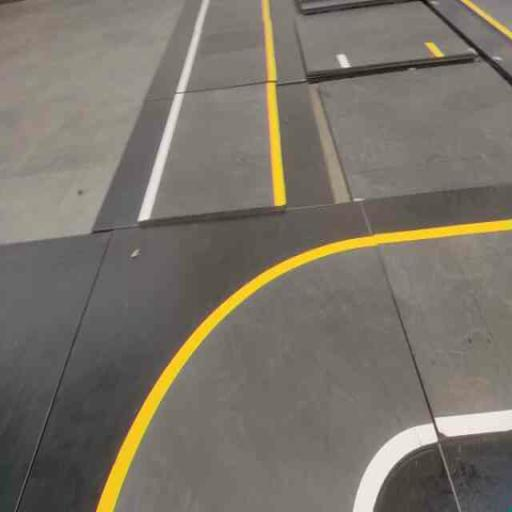right: (89, 206, 460, 511)
